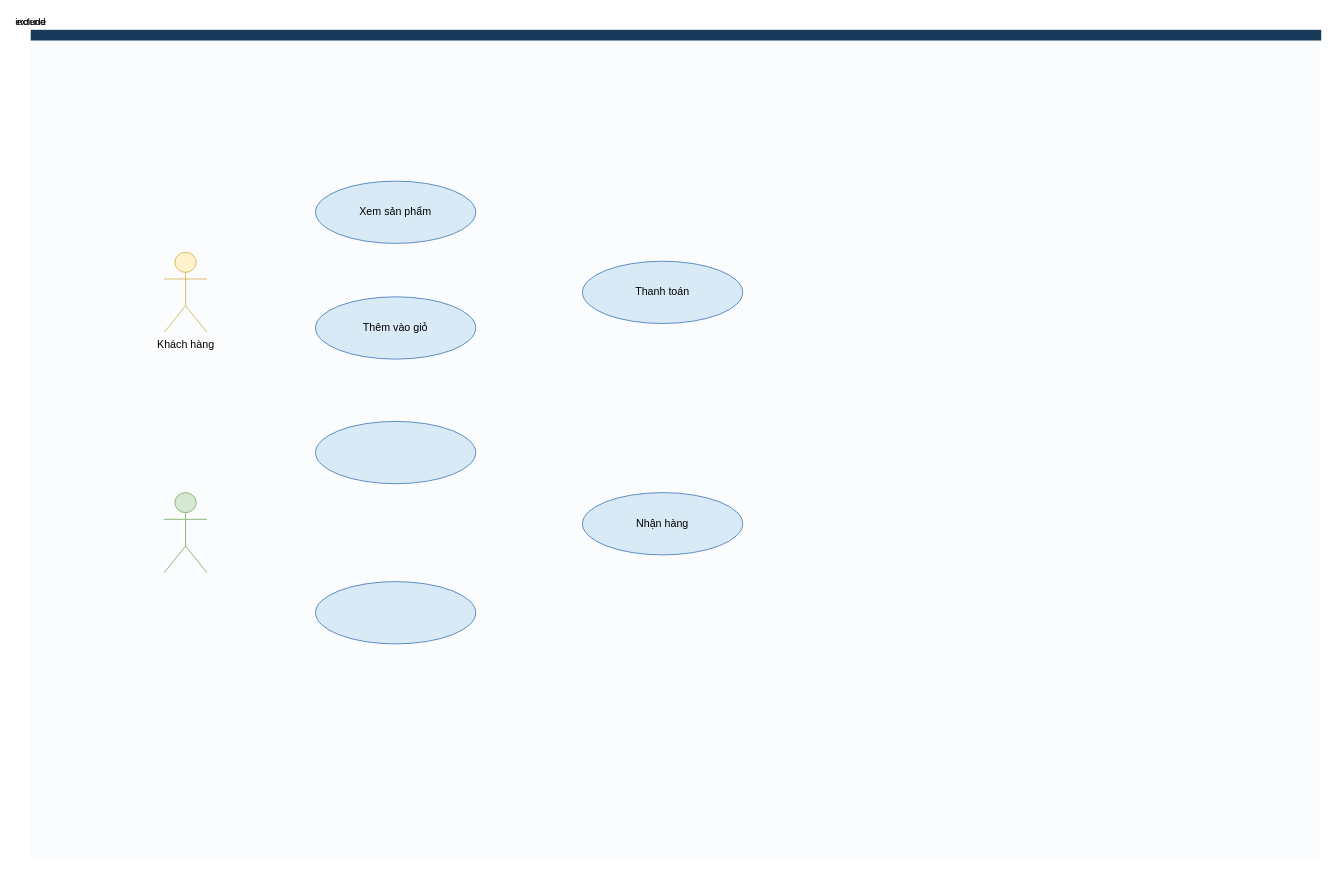
Some shapes in this 1337 by 872 pixel diagram are drawn without their labels. The centre of each missing label's shape, as x and y in pixels:
Nhân viên: the point at 185,532
Theo dõi đơn: the point at 395,612
Đặt hàng: the point at 395,452
